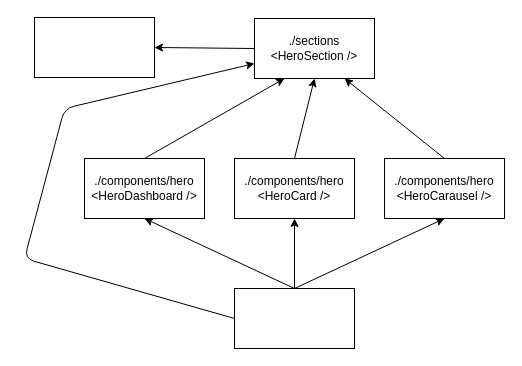
Some shapes in this 522 by 366 pixel diagram are drawn without their labels. Each missing label, with the centre of its shape:
./page <MainPage /> masih belum dibuat: pixel 94 47
./styles heroSection.css: pixel 294 318
